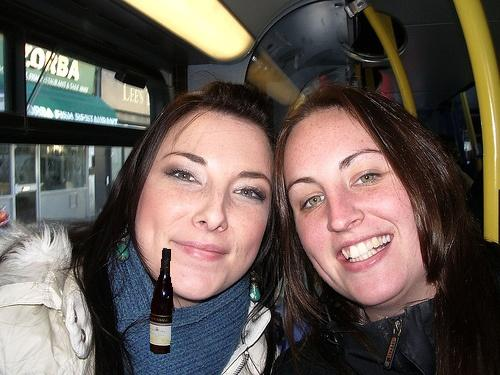tampered: (151, 249, 173, 354)
